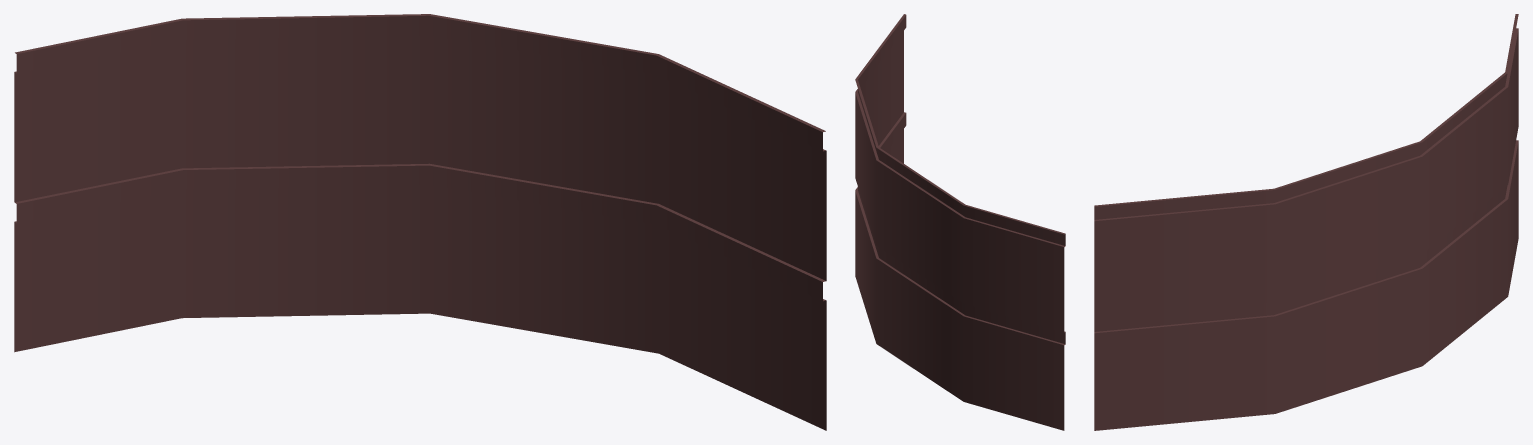
File: AlleyWallH_1.fbx
3 renders of one model, left to right at view 1: azimuth 30°, elevation 25°; view 2: azimuth 150°, elevation 25°; view 3: azimuth 270°, elevation 25°, orthographic. The views are drawn at different scales.
Parts seen in each view (by area): view 1: AlleyWallH_1; view 2: AlleyWallH_1; view 3: AlleyWallH_1.
Part boxes in pixels (bbox=[...]): AlleyWallH_1: bbox=[14, 14, 826, 430]; AlleyWallH_1: bbox=[855, 14, 1065, 430]; AlleyWallH_1: bbox=[1094, 14, 1518, 430].
Size of the model in its own units: 849 by 460 by 790.
